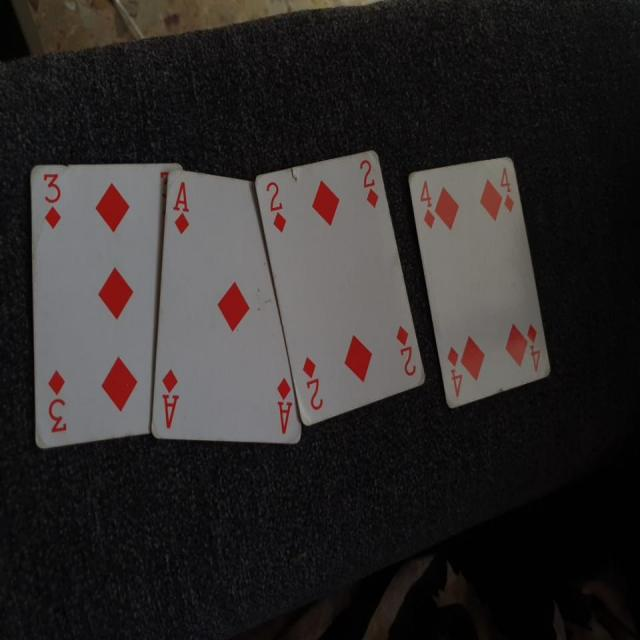2 Diamonds: (254, 152, 427, 424)
3 Diamonds: (27, 156, 186, 456)
4 Diamonds: (406, 154, 556, 412)
A Diamonds: (148, 172, 304, 450)
